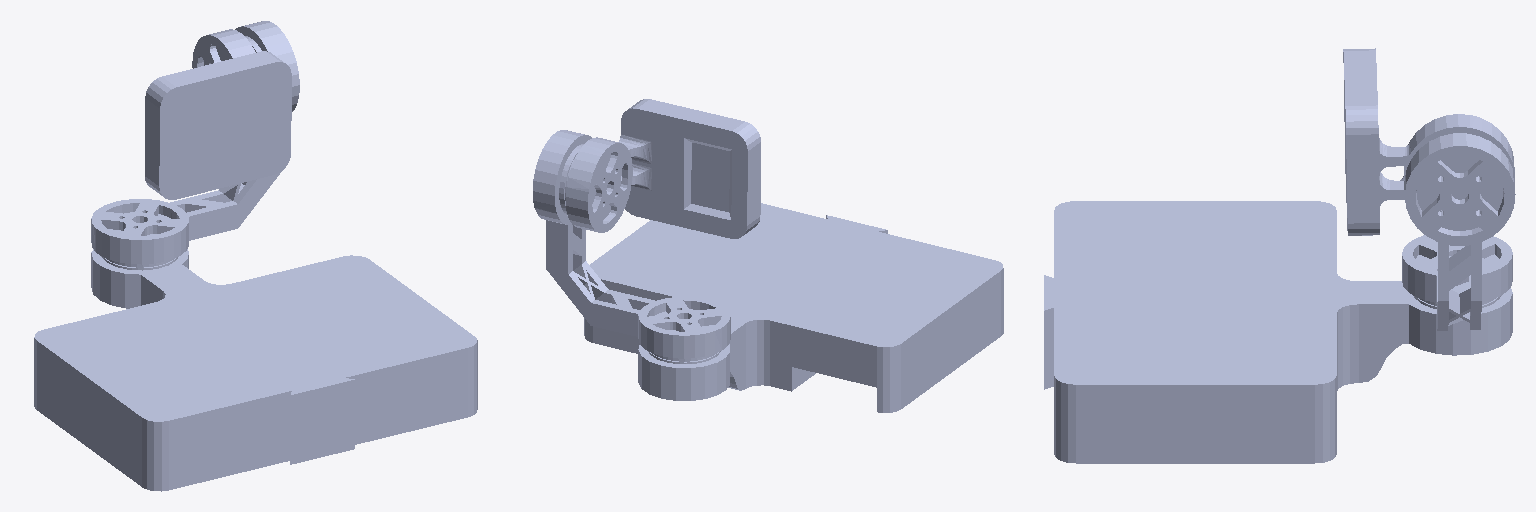
robot.urdf — Two axis URDF:
<?xml version="1.0" encoding="utf-8"?>
<!-- This URDF was automatically created by SolidWorks to URDF Exporter! Originally created by [author] ([email redacted]) 
     Commit Version: 1.6.0-4-g7f85cfe  Build Version: 1.6.7995.38578
     For more information, please see http://wiki.ros.org/sw_urdf_exporter -->
<robot
  name="Two axis URDF">
  <link
    name="base_link">
    <inertial>
      <origin
        xyz="0.0058038 -0.11499 -0.018823"
        rpy="0 0 0" />
      <mass
        value="0.98158" />
      <inertia
        ixx="0.0019367"
        ixy="-2.0105E-05"
        ixz="8.1983E-05"
        iyy="0.0031244"
        iyz="-2.7076E-05"
        izz="0.0048287" />
    </inertial>
    <visual>
      <origin
        xyz="0 0 0"
        rpy="0 0 0" />
      <geometry>
        <mesh
          filename="package://two_axis_description/meshes/base_link.STL" />
      </geometry>
      <material
        name="">
        <color
          rgba="0.79216 0.81961 0.93333 1" />
      </material>
    </visual>
    <collision>
      <origin
        xyz="0 0 0"
        rpy="0 0 0" />
      <geometry>
        <mesh
          filename="package://two_axis_description/meshes/base_link.STL" />
      </geometry>
    </collision>
  </link>
  <link
    name="Middle_link">
    <inertial>
      <origin
        xyz="0.040508 0.00060933 0.043297"
        rpy="0 0 0" />
      <mass
        value="0.072016" />
      <inertia
        ixx="5.9313E-05"
        ixy="-6.18E-07"
        ixz="-3.6125E-05"
        iyy="0.00010104"
        iyz="-5.5296E-07"
        izz="6.1442E-05" />
    </inertial>
    <visual>
      <origin
        xyz="0 0 0"
        rpy="0 0 0" />
      <geometry>
        <mesh
          filename="package://two_axis_description/meshes/Middle_link.STL" />
      </geometry>
      <material
        name="">
        <color
          rgba="0.79216 0.81961 0.93333 1" />
      </material>
    </visual>
    <collision>
      <origin
        xyz="0 0 0"
        rpy="0 0 0" />
      <geometry>
        <mesh
          filename="package://two_axis_description/meshes/Middle_link.STL" />
      </geometry>
    </collision>
  </link>
  <joint
    name="Joint_1"
    type="revolute">
    <origin
      xyz="0 0 0"
      rpy="0 0 0" />
    <parent
      link="base_link" />
    <child
      link="Middle_link" />
    <axis
      xyz="0 0 -1" />
    <limit
      lower="-1.57"
      upper="1.57"
      effort="0.147"
      velocity="87" />
  </joint>
  <link
    name="Last_link">
    <inertial>
      <origin
        xyz="0.031721 -0.031629 0.085647"
        rpy="0 0 0" />
      <mass
        value="0.10335" />
      <inertia
        ixx="5.8739E-05"
        ixy="-1.5962E-05"
        ixz="-2.4139E-07"
        iyy="8.1004E-05"
        iyz="4.185E-08"
        izz="7.8529E-05" />
    </inertial>
    <visual>
      <origin
        xyz="0 0 0"
        rpy="0 0 0" />
      <geometry>
        <mesh
          filename="package://two_axis_description/meshes/Last_link.STL" />
      </geometry>
      <material
        name="">
        <color
          rgba="0.79216 0.81961 0.93333 1" />
      </material>
    </visual>
    <collision>
      <origin
        xyz="0 0 0"
        rpy="0 0 0" />
      <geometry>
        <mesh
          filename="package://two_axis_description/meshes/Last_link.STL" />
      </geometry>
    </collision>
  </link>
  <joint
    name="Joint_2"
    type="revolute">
    <origin
      xyz="0 0 0"
      rpy="0 0 0" />
    <parent
      link="Middle_link" />
    <child
      link="Last_link" />
    <axis
      xyz="-0.99989 -0.015041 0" />
    <limit
      lower="-1.57"
      upper="1.57"
      effort="0.147"
      velocity="87" />
  </joint>
</robot>

--- What the picture shows (computed from the rendered views, not written in the file) ---
Views: 3 orthographic renders of the robot side by side, from view 1: azimuth 30°, elevation 25°; view 2: azimuth 150°, elevation 25°; view 3: azimuth 270°, elevation 25°.
Robot: Two axis URDF — 3 links, 2 joints (2 revolute); root link base_link; default pose: every joint at zero.
Links seen in each view (by area): view 1: base_link, Last_link, Middle_link; view 2: base_link, Last_link, Middle_link; view 3: base_link, Middle_link, Last_link.
Link boxes in pixels (bbox=[...]): base_link: bbox=[34, 249, 477, 491]; Last_link: bbox=[145, 29, 291, 199]; Middle_link: bbox=[91, 21, 299, 267]; base_link: bbox=[584, 203, 1003, 412]; Last_link: bbox=[565, 99, 760, 238]; Middle_link: bbox=[533, 130, 730, 361]; base_link: bbox=[1044, 201, 1512, 463]; Middle_link: bbox=[1402, 133, 1515, 330]; Last_link: bbox=[1343, 48, 1514, 235].
Bounding box of the posed robot: 0.2 × 0.2167 × 0.1611 m (x, y, z).
3 mesh visuals loaded from 3 distinct referenced files (3 binary STL).